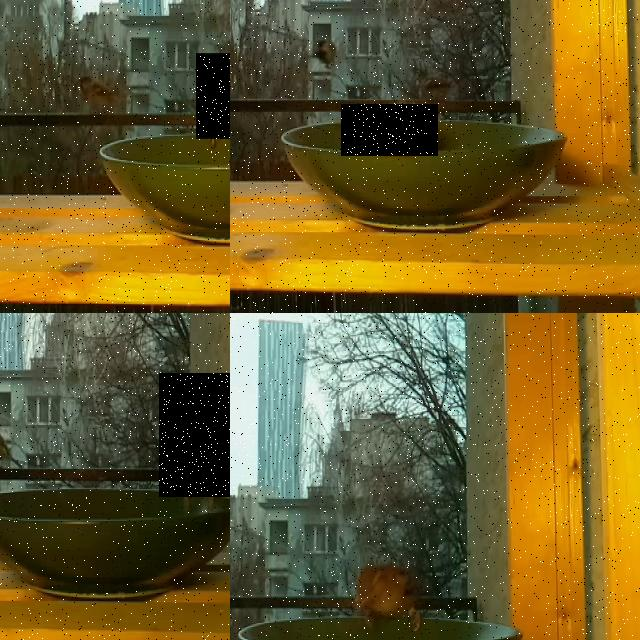Bogatka: (159, 373, 230, 497)
Modraszka: (341, 104, 438, 156)
Wrobel: (353, 560, 428, 626), (196, 53, 230, 138)
